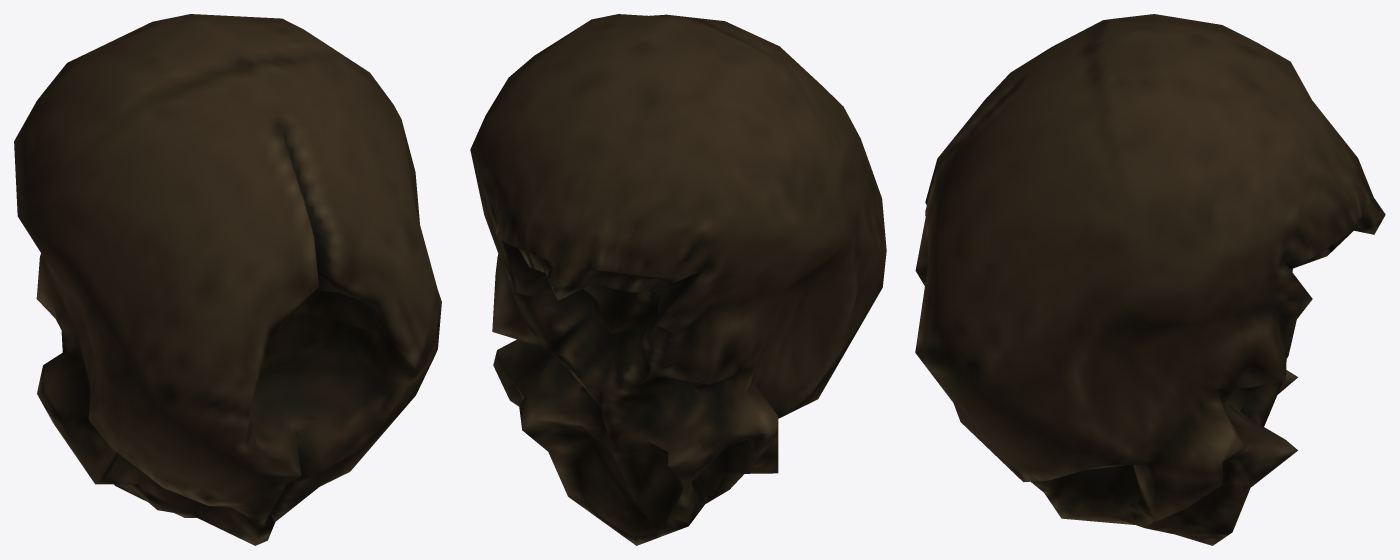
Rendered from boid.obj.
3 renders of one model, left to right at view 1: azimuth 30°, elevation 25°; view 2: azimuth 150°, elevation 25°; view 3: azimuth 270°, elevation 25°, orthographic. The views are drawn at different scales.
Parts seen in each view (by area): view 1: boid; view 2: boid; view 3: boid.
Boxes of the visible parts, bbox=[...] form: boid: bbox=[14, 14, 441, 545]; boid: bbox=[470, 14, 886, 545]; boid: bbox=[915, 14, 1385, 545].
Size of the model in its own units: 0.8451 by 1.16 by 0.9609.
